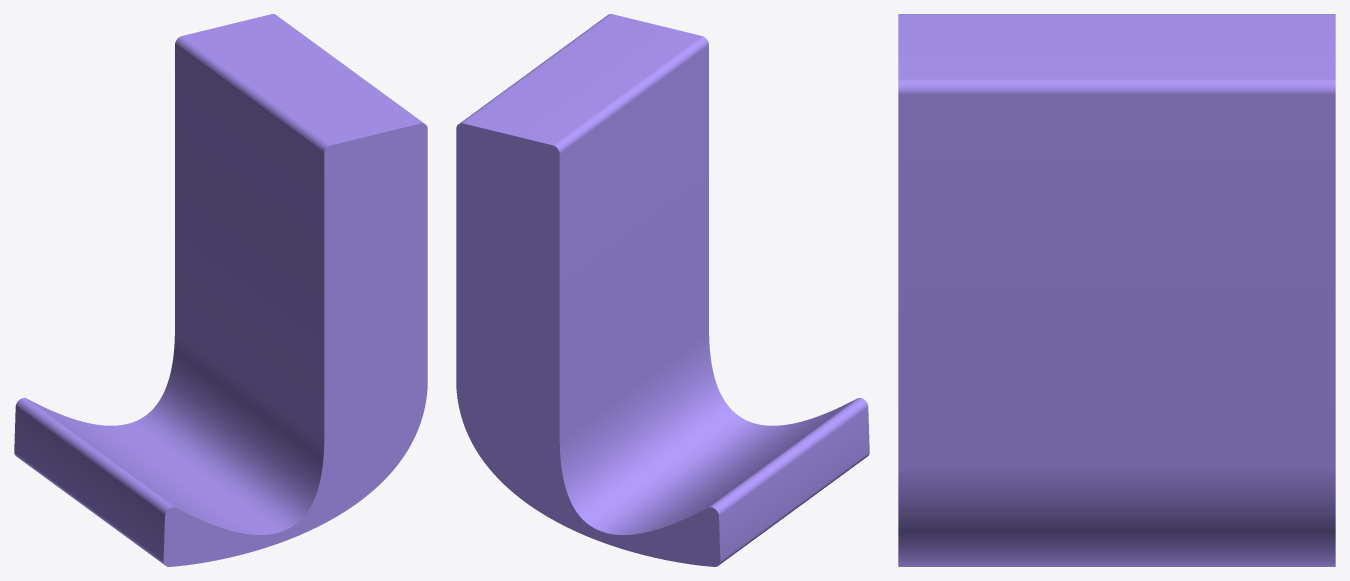
The picture shows the model from 3 angles, left to right: view 1: azimuth 30°, elevation 25°; view 2: azimuth 150°, elevation 25°; view 3: azimuth 270°, elevation 25°; orthographic projection. The views are drawn at different scales.
Bounding box in the file's own units: 0.0163 × 0.0229 × 0.016.
